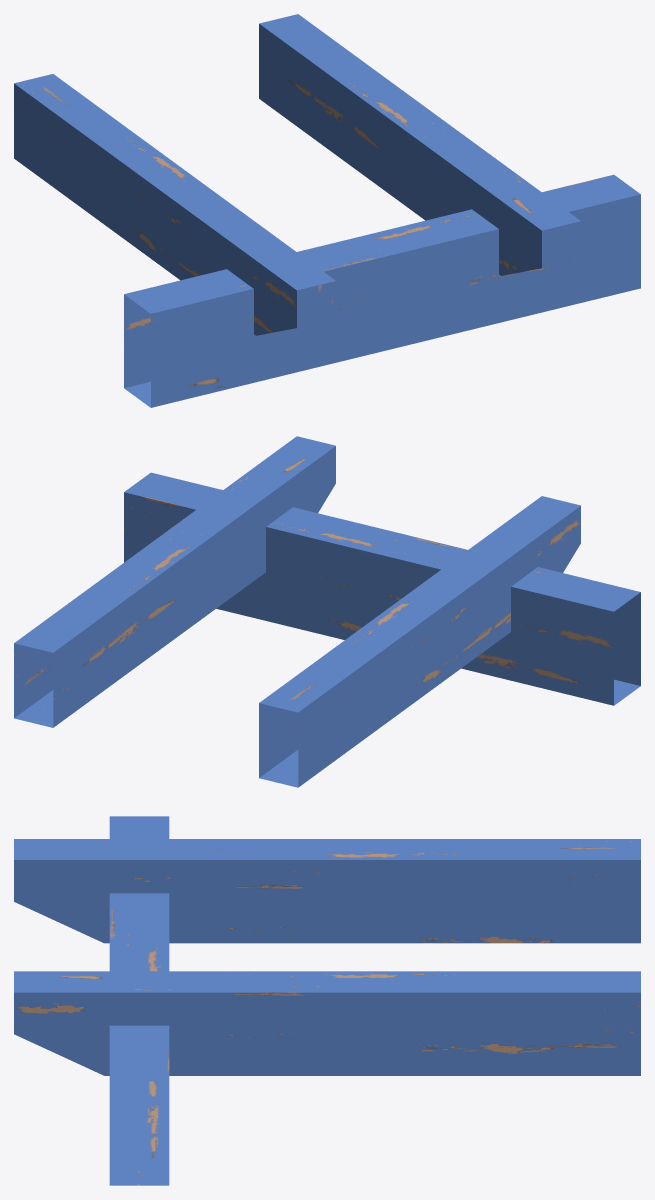
The model's file is PergolaFront.fbx.
The picture shows the model from 3 angles, top to bottom: view 1: azimuth 30°, elevation 25°; view 2: azimuth 150°, elevation 25°; view 3: azimuth 270°, elevation 25°; orthographic projection. The views are drawn at different scales.
Visible parts, largest first — view 1: PergolaFront; view 2: PergolaFront; view 3: PergolaFront.
Part boxes in pixels (x1=…): PergolaFront: x1=14, y1=14, x2=640, y2=407; PergolaFront: x1=14, y1=436, x2=640, y2=787; PergolaFront: x1=14, y1=816, x2=640, y2=1185.
Size of the model in its own units: 100 by 24.17 by 100.
Materials: 1 (1 with a texture image).
